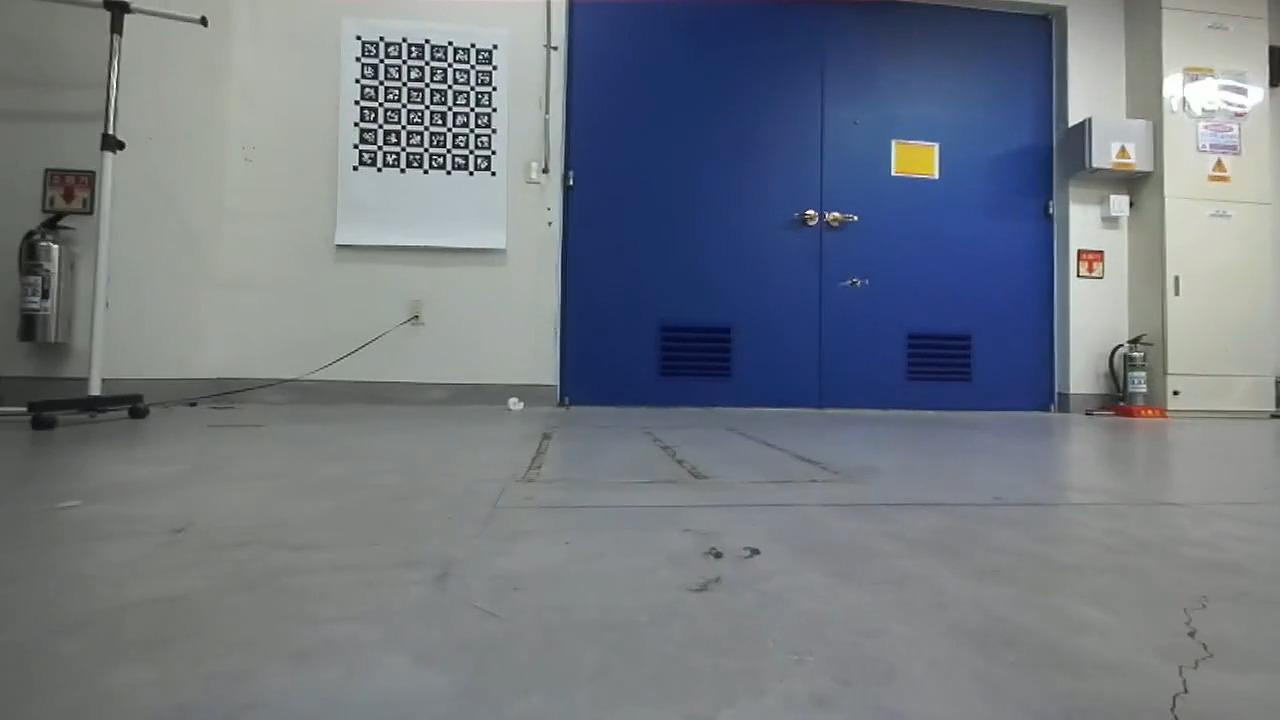crazyflie: (827, 270, 881, 293)
